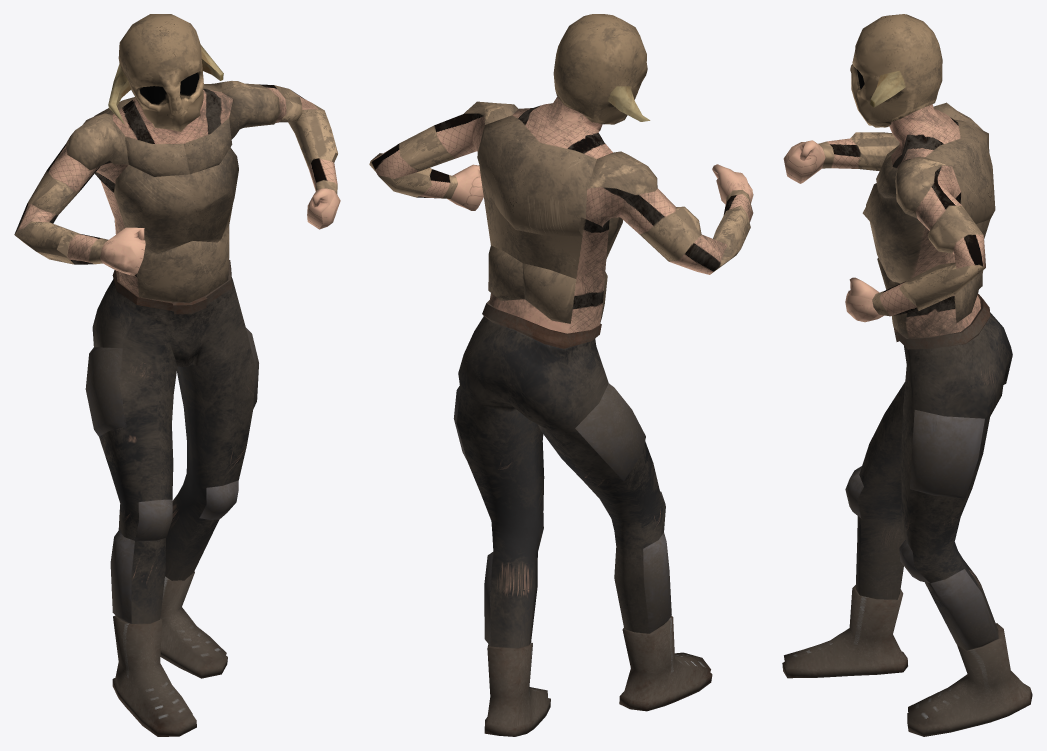
File: Anim_ataque_d2_npc1.0030.obj
The picture shows the model from 3 angles, left to right: view 1: azimuth 30°, elevation 25°; view 2: azimuth 150°, elevation 25°; view 3: azimuth 270°, elevation 25°; orthographic projection. The views are drawn at different scales.
Visible parts, largest first — view 1: NPC2; view 2: NPC2; view 3: NPC2.
Part boxes in pixels (bbox=[...]): NPC2: bbox=[14, 14, 340, 736]; NPC2: bbox=[369, 14, 753, 736]; NPC2: bbox=[782, 14, 1032, 736].
Bounding box in the file's own units: 4.74 × 9.4 × 3.13.
